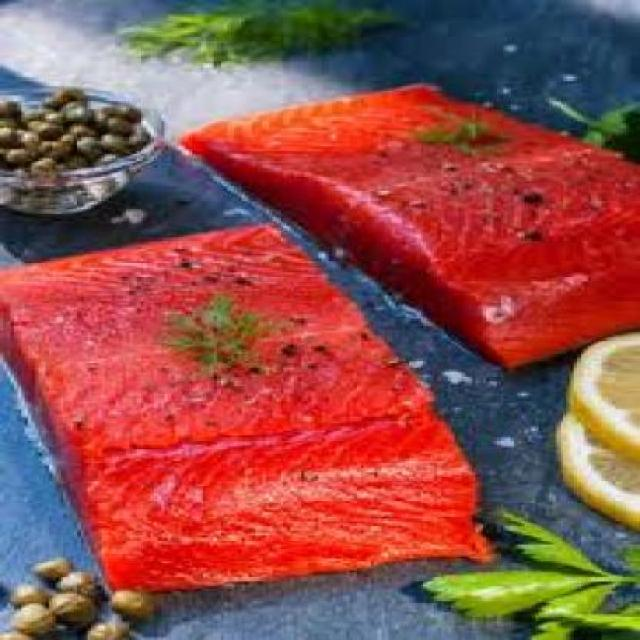salmon: (3, 221, 510, 594), (181, 63, 640, 377)
